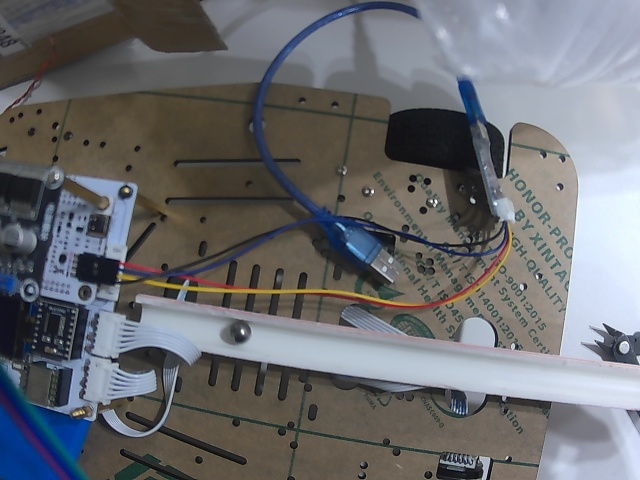steelball: (226, 321, 251, 345)
